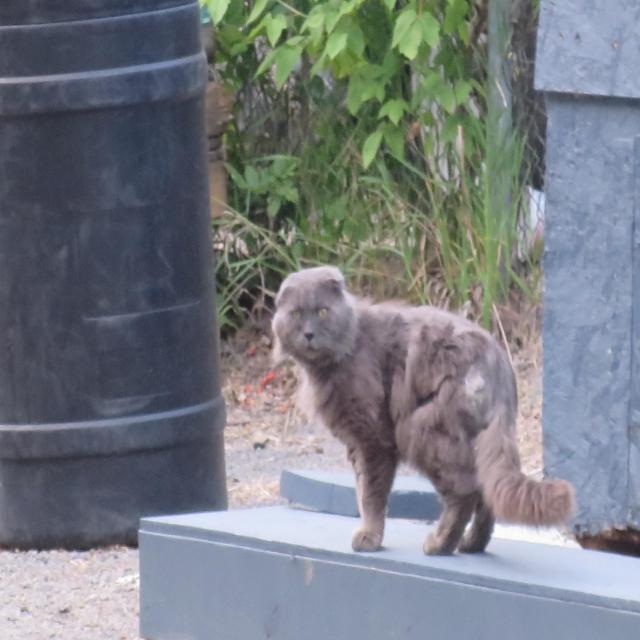cat: (272, 267, 575, 555)
